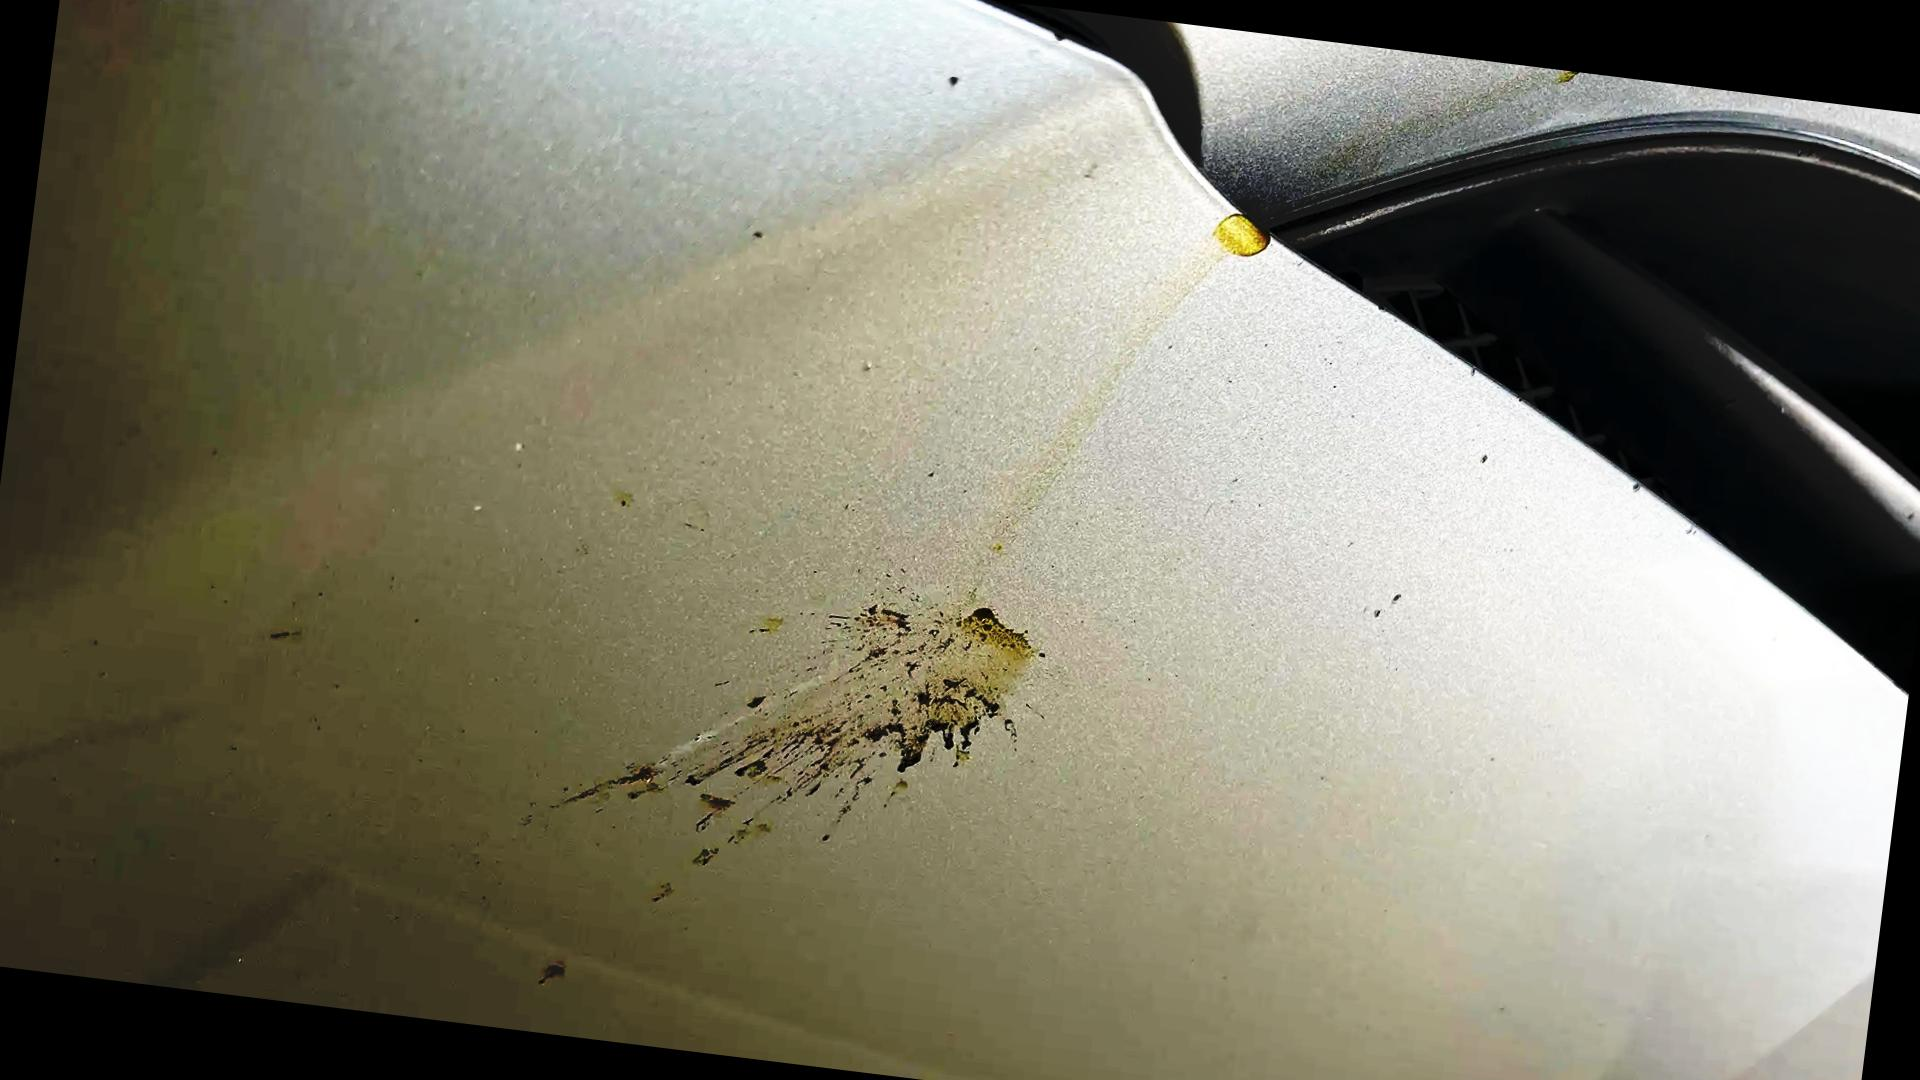Bird Poop: (568, 605, 1042, 866), (1213, 212, 1270, 256), (539, 964, 564, 984)
